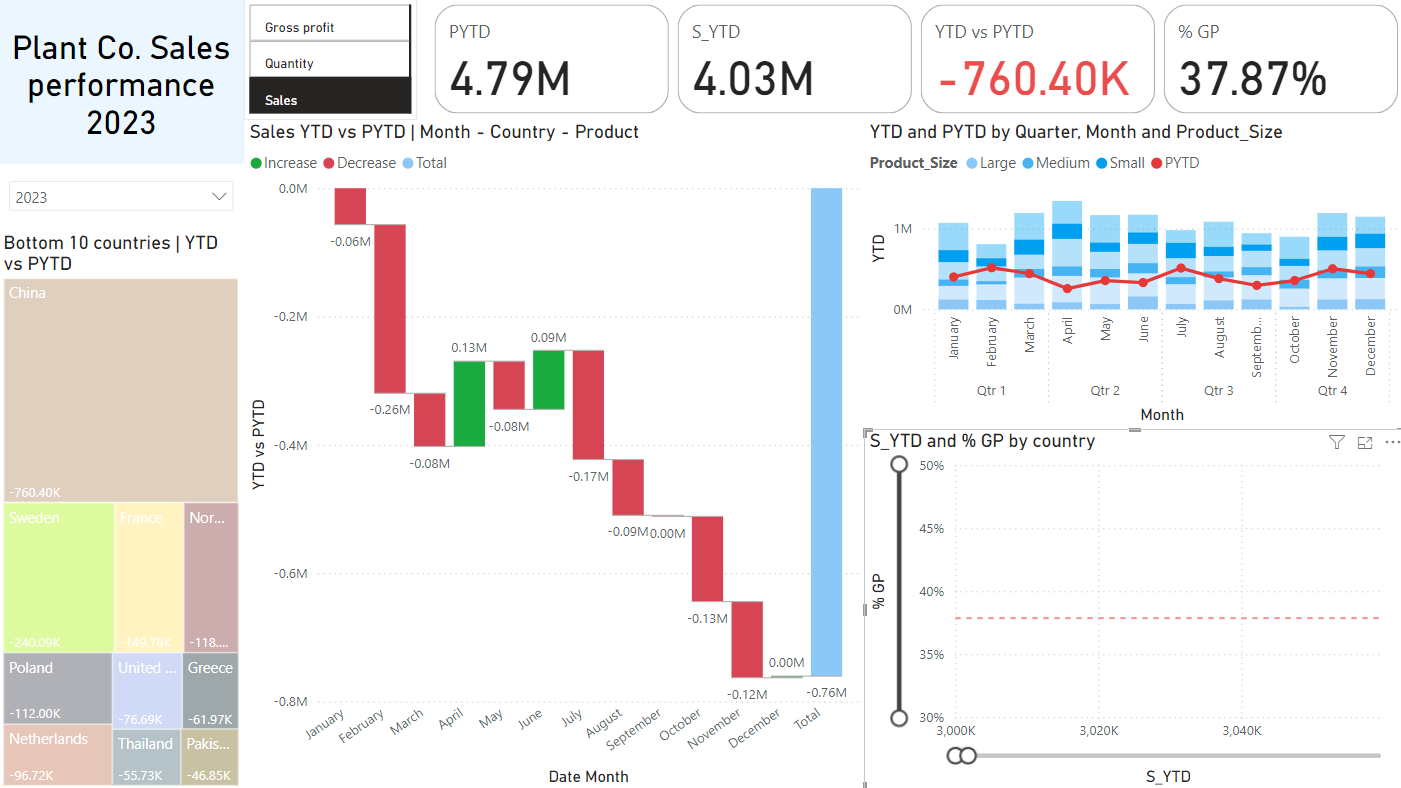

Layout of this report page (visuals, bound fields, positions):
{"tool":"powerbi","page":{"name":"Page 1","canvas":[1280,720],"ordinal":0},"visuals":[{"type":"cardVisual","fields":{"Data":["_Measures.S_PYTD","_Measures.S_YTD","_Measures.YTD vs PYTD","_Measures.% GP"]},"box":[391.8,0,888.2,110],"z":0},{"type":"advancedSlicerVisual","fields":{"Values":["SLC_values.Values"]},"box":[223.6,0,157.3,110],"z":1000},{"type":"slicer","fields":{"Values":["Date.Date.Variation.Date Hierarchy.Year"]},"box":[0,155.5,223.6,47.3],"z":2000},{"type":"treemap","title":"Bottom 10 countries | YTD vs PYTD","fields":{"Values":["_Measures.YTD vs PYTD"],"Group":["Accounts.country"]},"box":[0,210.9,223.6,509.1],"z":3000},{"type":"waterfallChart","fields":{"Y":["_Measures.YTD vs PYTD"],"Category":["Date.Date.Variation.Date Hierarchy.Month","Accounts.country","Products.Product_Name","Products.Produt_Type"]},"box":[223.6,110,563.6,610],"z":4000},{"type":"lineStackedColumnComboChart","fields":{"Category":["Date.Date.Variation.Date Hierarchy.Quarter","Date.Date.Variation.Date Hierarchy.Month"],"Y":["_Measures.S_YTD"],"Y2":["_Measures.S_PYTD"],"Series":["Products.Product_Size"]},"box":[787,109.7,493,281.4],"z":5000},{"type":"scatterChart","fields":{"Series":["Accounts.country"],"Y":["_Measures.% GP"],"X":["_Measures.S_YTD"]},"box":[787,391,493,329],"z":6000},{"type":"card","fields":{"Values":["Accounts.report title"]},"box":[0,0,224,150],"z":6001}]}

Visuals, with their boxes in screenshot pixels (x1, y1, x2, y2), scaled from the page's 1280x720 canvas onto the 1401x788 screenshot:
cardVisual - _Measures.S_PYTD x _Measures.S_YTD: detection(429, 0, 1400, 120)
advancedSlicerVisual - SLC_values.Values: detection(245, 0, 417, 120)
slicer - Date.Date.Variation.Date Hierarchy.Year: detection(0, 170, 245, 222)
"Bottom 10 countries | YTD vs PYTD" treemap: detection(0, 231, 245, 787)
waterfallChart - _Measures.YTD vs PYTD x Date.Date.Variation.Date Hierarchy.Month: detection(245, 120, 862, 787)
lineStackedColumnComboChart - Date.Date.Variation.Date Hierarchy.Quarter x Date.Date.Variation.Date Hierarchy.Month: detection(861, 120, 1400, 428)
scatterChart - Accounts.country x _Measures.% GP: detection(861, 428, 1400, 787)
card - Accounts.report title: detection(0, 0, 245, 164)
